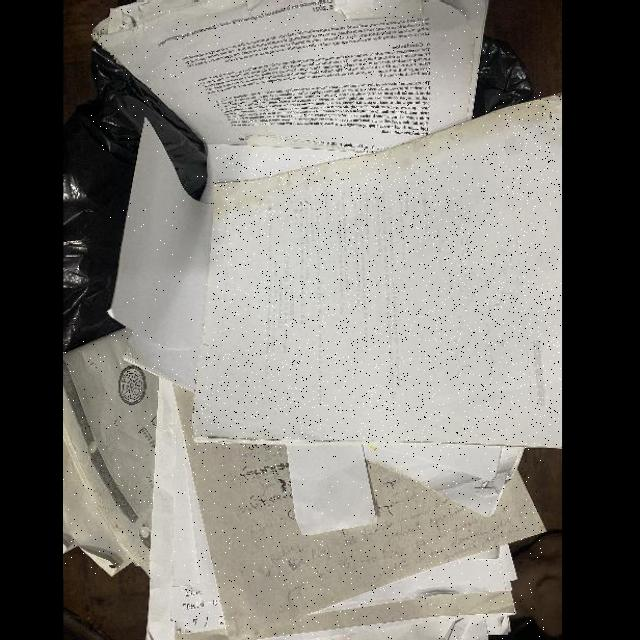paper: (194, 92, 561, 448), (171, 305, 545, 640), (92, 1, 490, 153), (106, 116, 213, 349), (64, 327, 160, 577), (287, 443, 376, 534)
